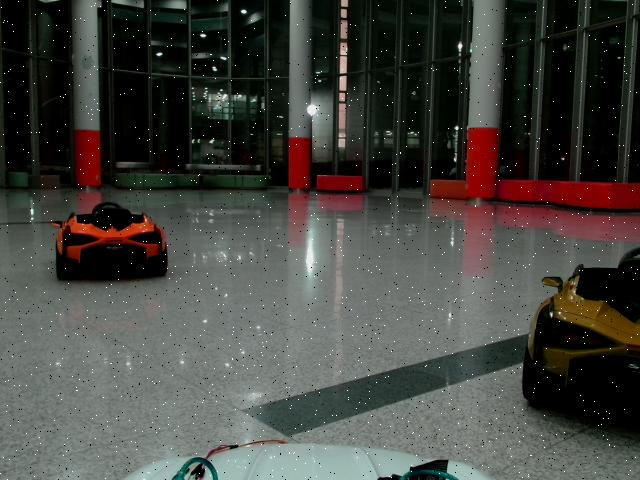car: (523, 247, 640, 416), (50, 203, 168, 282)
